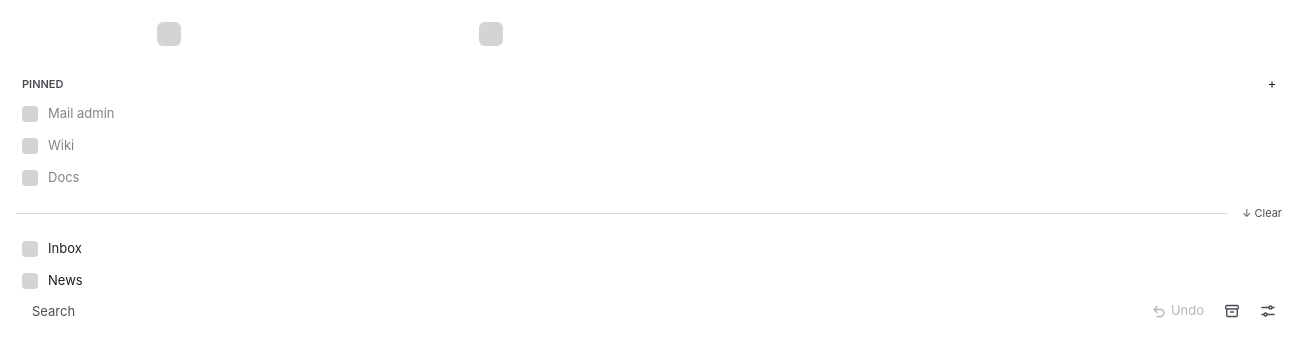
Test: filters Favorites, Pinned Tabs and Unpinned Tabs by title and URL, in any letter case
The image size is (1292, 341).
Type "MAIL" into the search field at x=579, y=311, box [22,297,1137,325]
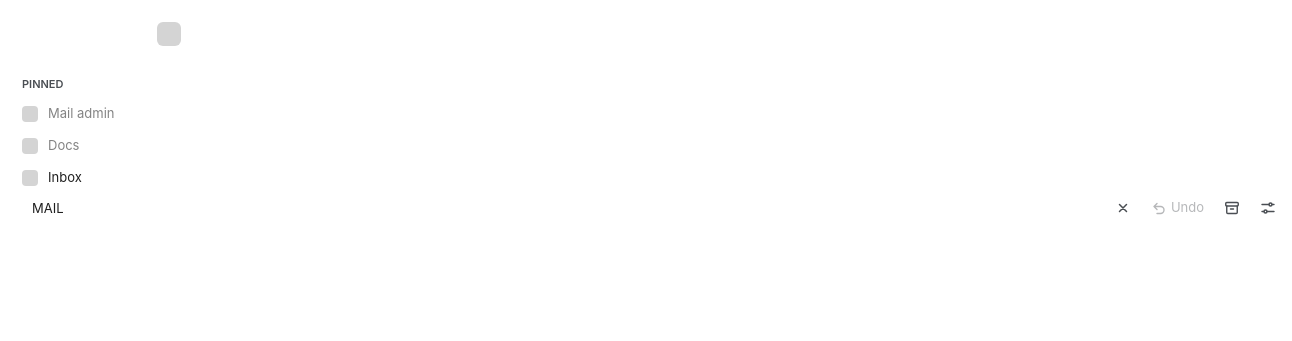
Now the button "Maps" is gone
Now the button "Wiki" is gone
Now the button "News" is gone
